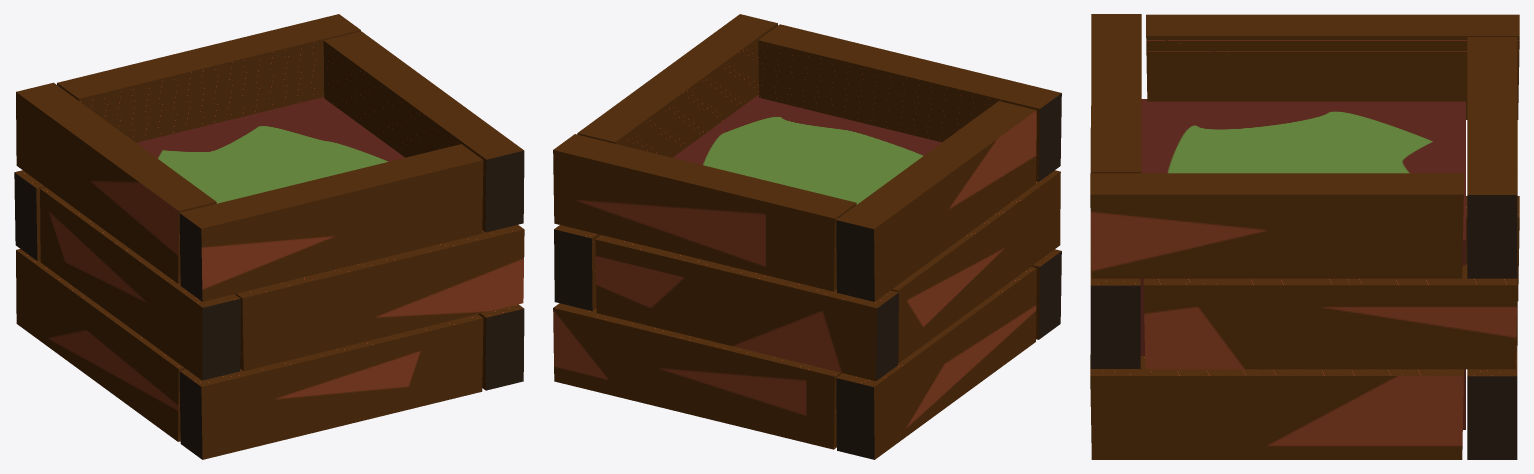
Rendered from PRMC_Macetero.FBX.
3 renders of one model, left to right at view 1: azimuth 30°, elevation 25°; view 2: azimuth 150°, elevation 25°; view 3: azimuth 270°, elevation 25°, orthographic. The views are drawn at different scales.
Parts seen in each view (by area): view 1: PRMC_Macetero; view 2: PRMC_Macetero; view 3: PRMC_Macetero.
Boxes of the visible parts, bbox=[...] form: PRMC_Macetero: bbox=[14, 14, 524, 459]; PRMC_Macetero: bbox=[553, 14, 1061, 459]; PRMC_Macetero: bbox=[1090, 14, 1519, 459].
Size of the model in its own units: 1.03 by 0.7007 by 1.03.
